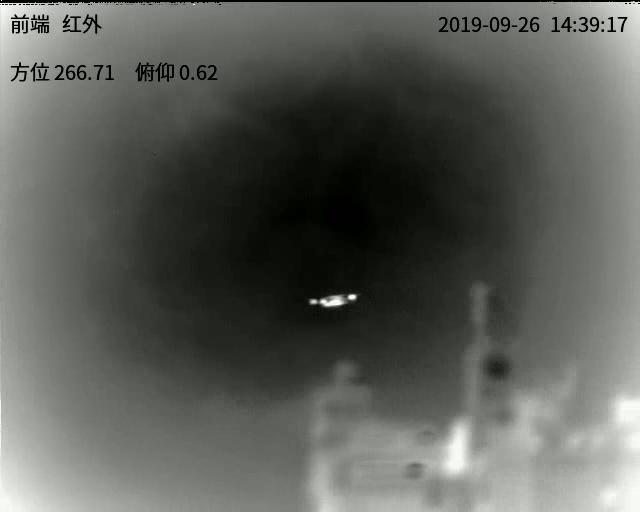DRONE: (308, 291, 360, 310)
